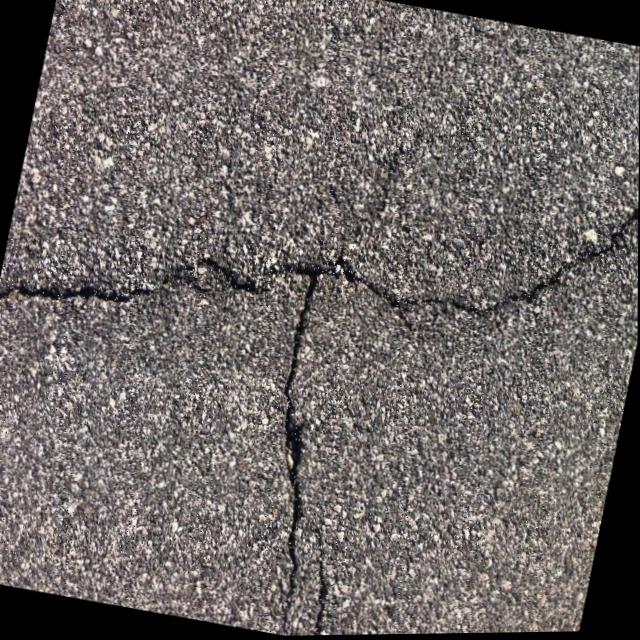Crack: (0, 54, 640, 420), (208, 267, 403, 638)
